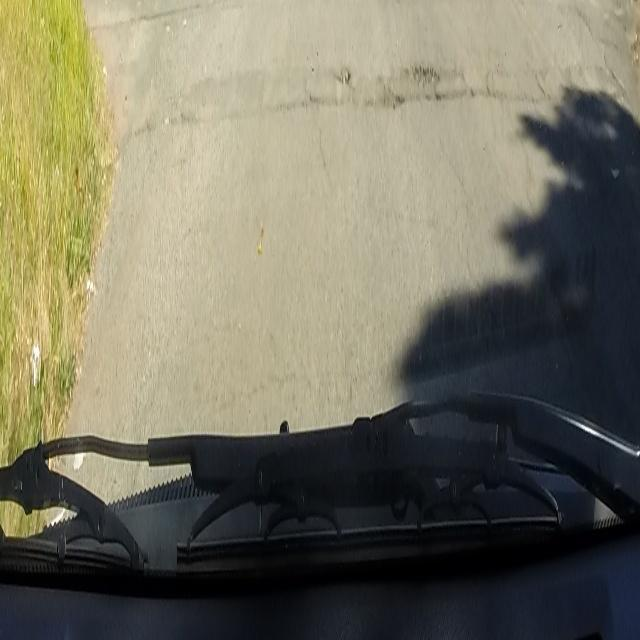pothole: (412, 59, 440, 86), (337, 64, 350, 88)
